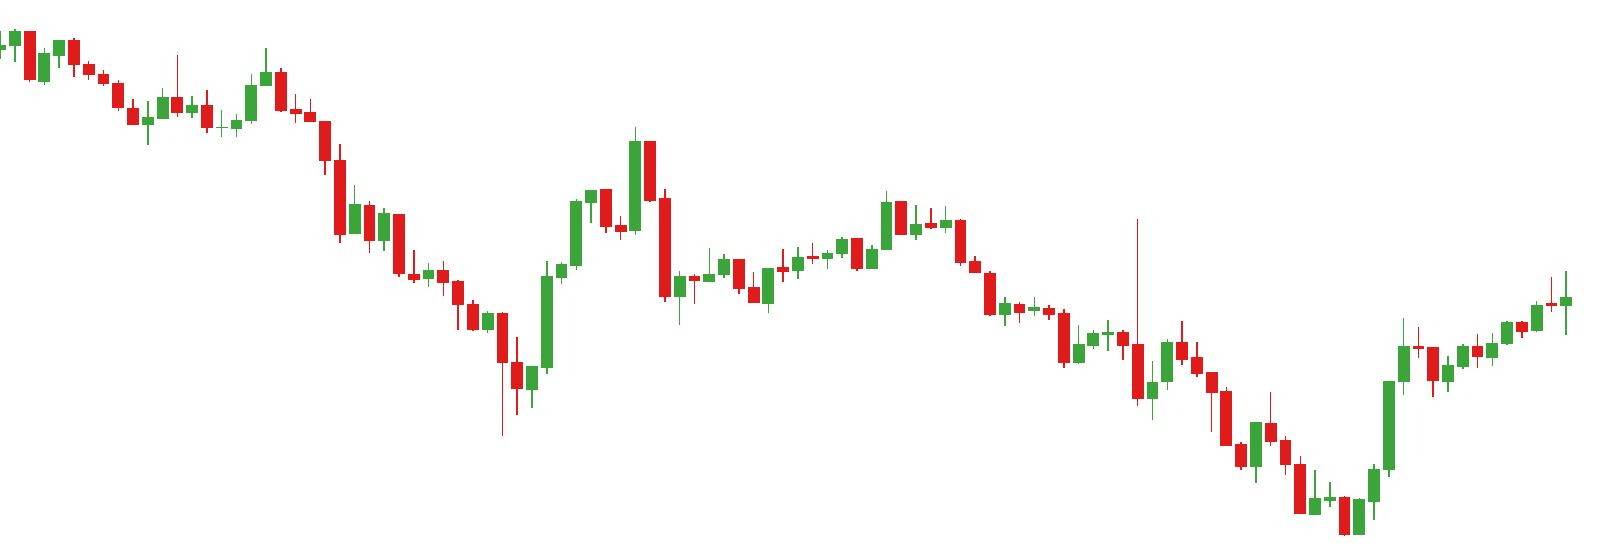sell: (172, 48, 272, 111)
